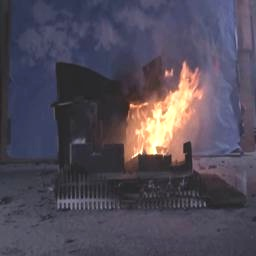fire: (124, 58, 202, 161)
